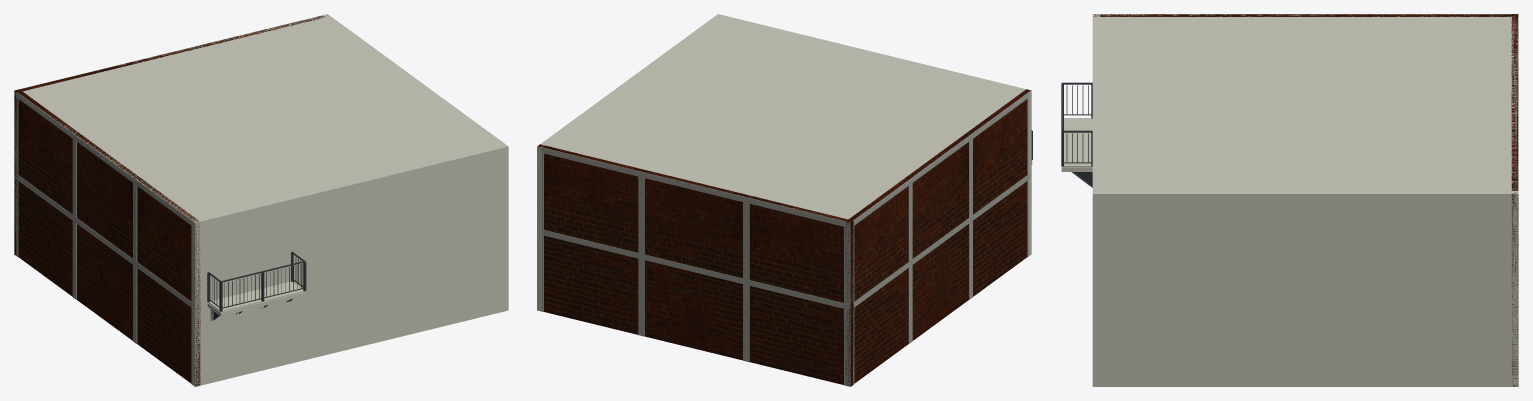
Rendered from building.glb.
3 renders of one model, left to right at view 1: azimuth 30°, elevation 25°; view 2: azimuth 150°, elevation 25°; view 3: azimuth 270°, elevation 25°, orthographic. The views are drawn at different scales.
Visible parts, largest first — view 1: roof/house:0/roof_slab#0001, house:0/edge0/z0/house:0/edge0/z0/wall_0_0, house:0/edge3/z0/house:0/edge3/z0/wall_0_0, house:0/edge2/z0/house:0/edge2/z0/wall_0_0, house:0/edge3/z0/house:0/edge3/z0/beam_0_0, house:0/edge3/z0/house:0/edge3/z0/beam_1_0, balcony/sample/balcony_platform#0001, house:0/edge1/z0/house:0/edge1/z0/wall_0_0, balcony/sample/balcony_fascia#0001; view 2: roof/house:0/roof_slab#0001, house:0/edge2/z0/house:0/edge2/z0/wall_0_0, house:0/edge3/z0/house:0/edge3/z0/wall_0_0, house:0/edge1/z0/house:0/edge1/z0/wall_0_0, house:0/edge2/z0/house:0/edge2/z0/beam_1_0, house:0/edge2/z0/house:0/edge2/z0/beam_0_0, house:0/edge0/z0/house:0/edge0/z0/wall_0_0, house:0/edge3/z0/house:0/edge3/z0/beam_0_0, house:0/edge3/z0/house:0/edge3/z0/beam_1_0, house:0/edge2/z0/house:0/edge2/z0/column_2_0, house:0/edge2/z0/house:0/edge2/z0/column_2_1, house:0/edge2/z0/house:0/edge2/z0/column_3_0 (+3 smaller); view 3: house:0/edge1/z0/house:0/edge1/z0/wall_0_0, roof/house:0/roof_slab#0001, house:0/edge0/z0/house:0/edge0/z0/wall_0_0, house:0/edge2/z0/house:0/edge2/z0/wall_0_0, balcony/sample/balcony_platform#0001, house:0/edge3/z0/house:0/edge3/z0/wall_0_0.
Part boxes in pixels (x1,y1,x2,y2): roof/house:0/roof_slab#0001: (15,14,506,225); house:0/edge0/z0/house:0/edge0/z0/wall_0_0: (192,144,508,386); house:0/edge3/z0/house:0/edge3/z0/wall_0_0: (17,89,200,386); house:0/edge2/z0/house:0/edge2/z0/wall_0_0: (14,15,327,255); house:0/edge3/z0/house:0/edge3/z0/beam_0_0: (14,173,195,309); house:0/edge3/z0/house:0/edge3/z0/beam_1_0: (14,92,195,227); balcony/sample/balcony_platform#0001: (208,281,304,312); house:0/edge1/z0/house:0/edge1/z0/wall_0_0: (323,14,508,311); balcony/sample/balcony_fascia#0001: (207,291,305,316); roof/house:0/roof_slab#0001: (540,14,1031,223); house:0/edge2/z0/house:0/edge2/z0/wall_0_0: (538,144,853,386); house:0/edge3/z0/house:0/edge3/z0/wall_0_0: (845,89,1030,385); house:0/edge1/z0/house:0/edge1/z0/wall_0_0: (537,15,722,311); house:0/edge2/z0/house:0/edge2/z0/beam_1_0: (538,147,850,228); house:0/edge2/z0/house:0/edge2/z0/beam_0_0: (542,230,850,309); house:0/edge0/z0/house:0/edge0/z0/wall_0_0: (717,14,1031,256); house:0/edge3/z0/house:0/edge3/z0/beam_0_0: (850,172,1031,309); house:0/edge3/z0/house:0/edge3/z0/beam_1_0: (850,90,1031,227); house:0/edge2/z0/house:0/edge2/z0/column_2_0: (638,176,644,254); house:0/edge2/z0/house:0/edge2/z0/column_2_1: (638,258,644,336); house:0/edge2/z0/house:0/edge2/z0/column_3_0: (743,202,749,280); house:0/edge1/z0/house:0/edge1/z0/wall_0_0: (1092,191,1518,386); roof/house:0/roof_slab#0001: (1092,14,1518,198); house:0/edge0/z0/house:0/edge0/z0/wall_0_0: (1092,14,1099,386); house:0/edge2/z0/house:0/edge2/z0/wall_0_0: (1511,14,1518,386); balcony/sample/balcony_platform#0001: (1063,118,1092,167); house:0/edge3/z0/house:0/edge3/z0/wall_0_0: (1093,14,1517,16).
Size of the model in its own units: 12 by 6 by 12.89.
Materials: 4 (1 with a texture image).
